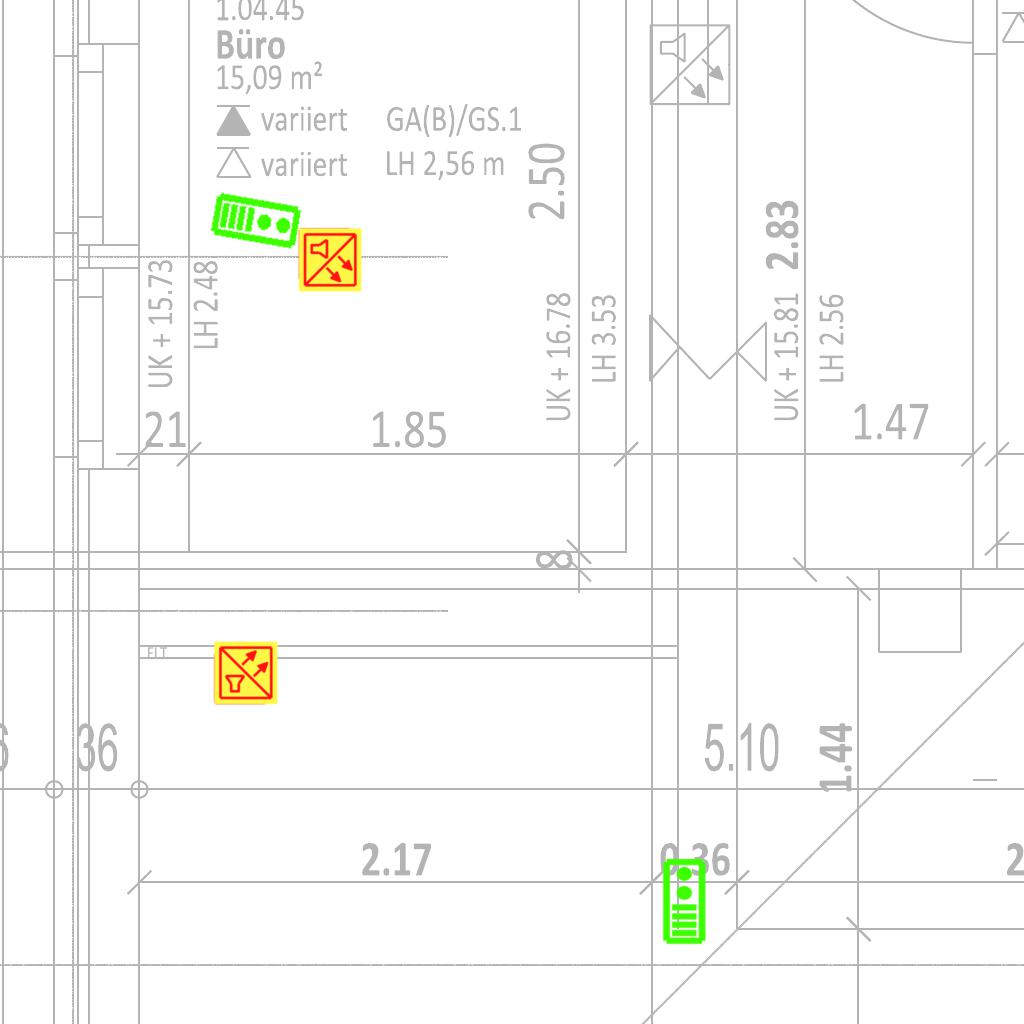Gegensprechanlage_mit_Video: (209, 189, 304, 251), (660, 857, 707, 945)
OKW_Multisensormelder_(Kombination_optischer_Rauch-Kahlenmonoxid_Waerme-Melder): (297, 227, 363, 293), (213, 640, 279, 706)
